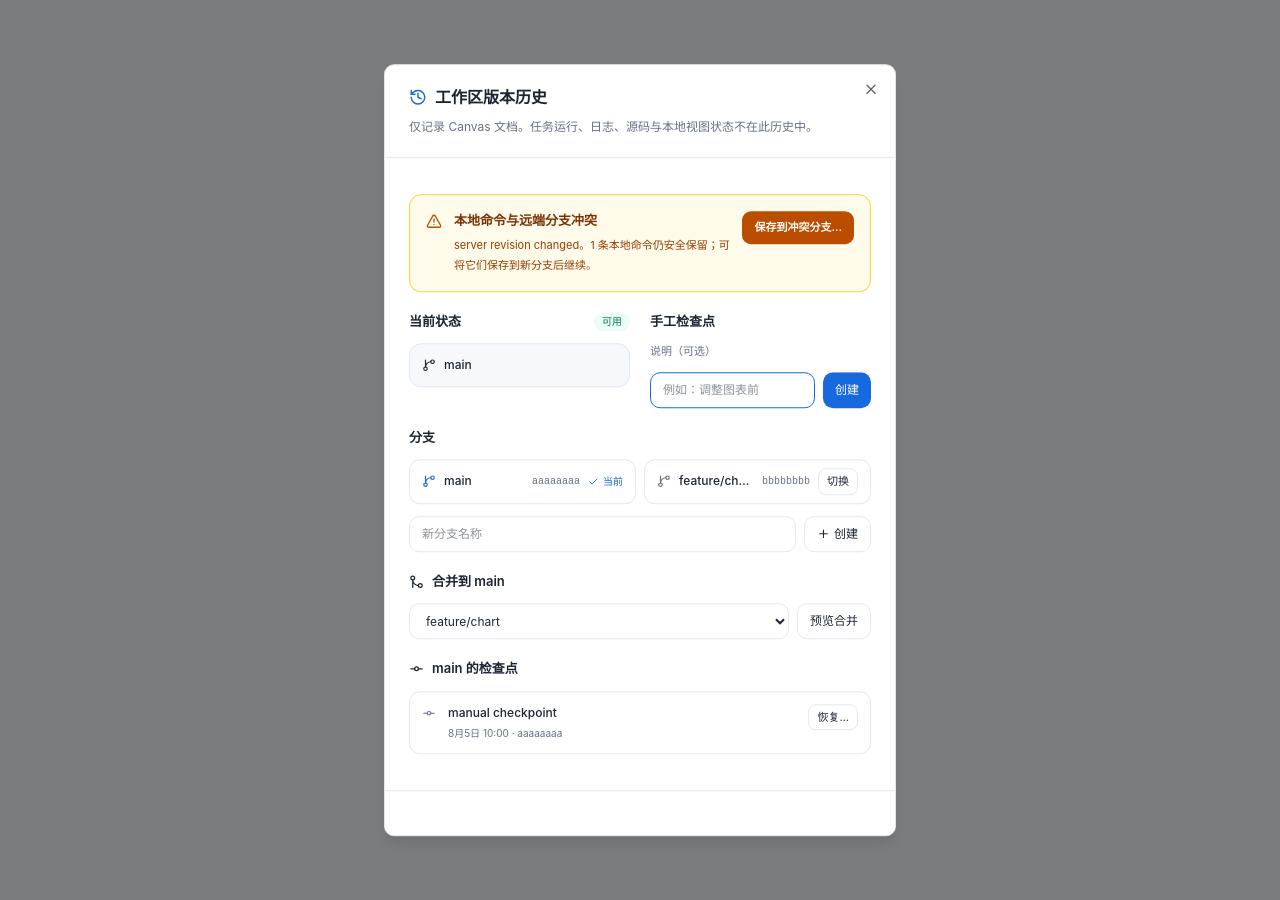
it: CanvasVersioningPanel › blocks navigation on conflict and keeps the user-visible conflict state
The width and height of the screenshot is (1280, 900).
Click the button "切换".
click(838, 482)  # box [818,468,858,495]
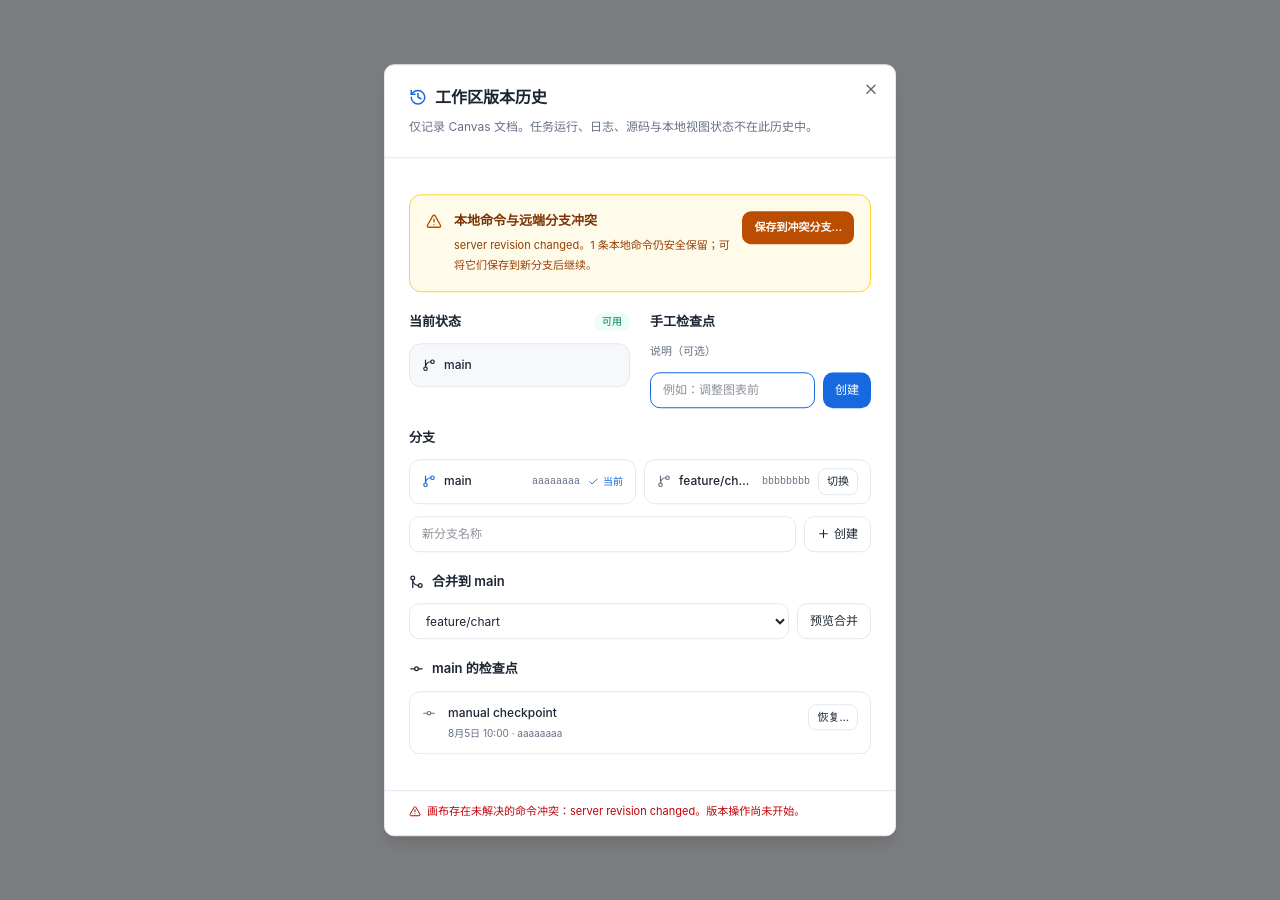
Check: the message "画布存在未解决的命令冲突：server revision changed。版本操作尚未开始。" is shown, box [409,803,871,819]
